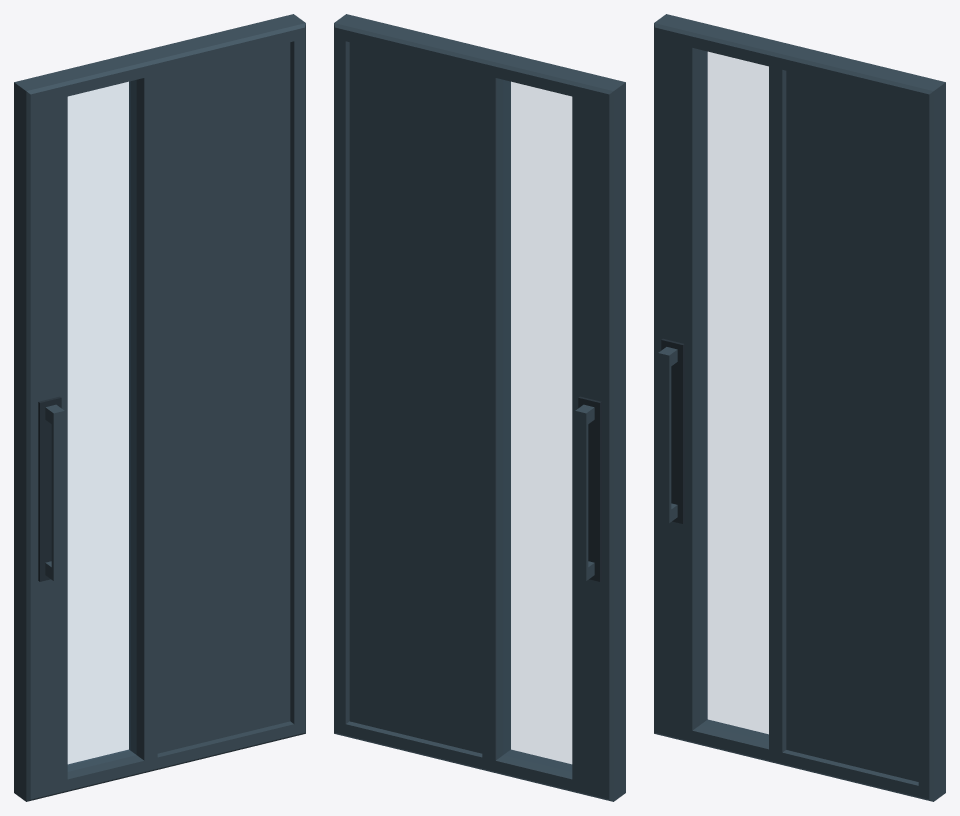
The model's file is SM_Buildings_Skyscraper_04_Door_R.fbx.
3 views of the same model, side by side, from view 1: azimuth 30°, elevation 25°; view 2: azimuth 150°, elevation 25°; view 3: azimuth 330°, elevation 25° (orthographic).
Visible parts, largest first — view 1: SM_Buildings_Skyscraper_04_Door_R; view 2: SM_Buildings_Skyscraper_04_Door_R; view 3: SM_Buildings_Skyscraper_04_Door_R.
Part boxes in pixels (x1=…): SM_Buildings_Skyscraper_04_Door_R: x1=14, y1=14, x2=305, y2=801; SM_Buildings_Skyscraper_04_Door_R: x1=334, y1=14, x2=625, y2=801; SM_Buildings_Skyscraper_04_Door_R: x1=654, y1=14, x2=945, y2=801.
Size of the model in its own units: 1.05 by 2.55 by 0.2313.
